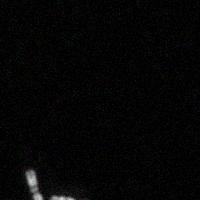chromosome: (26, 168, 43, 200), (52, 194, 92, 200)
